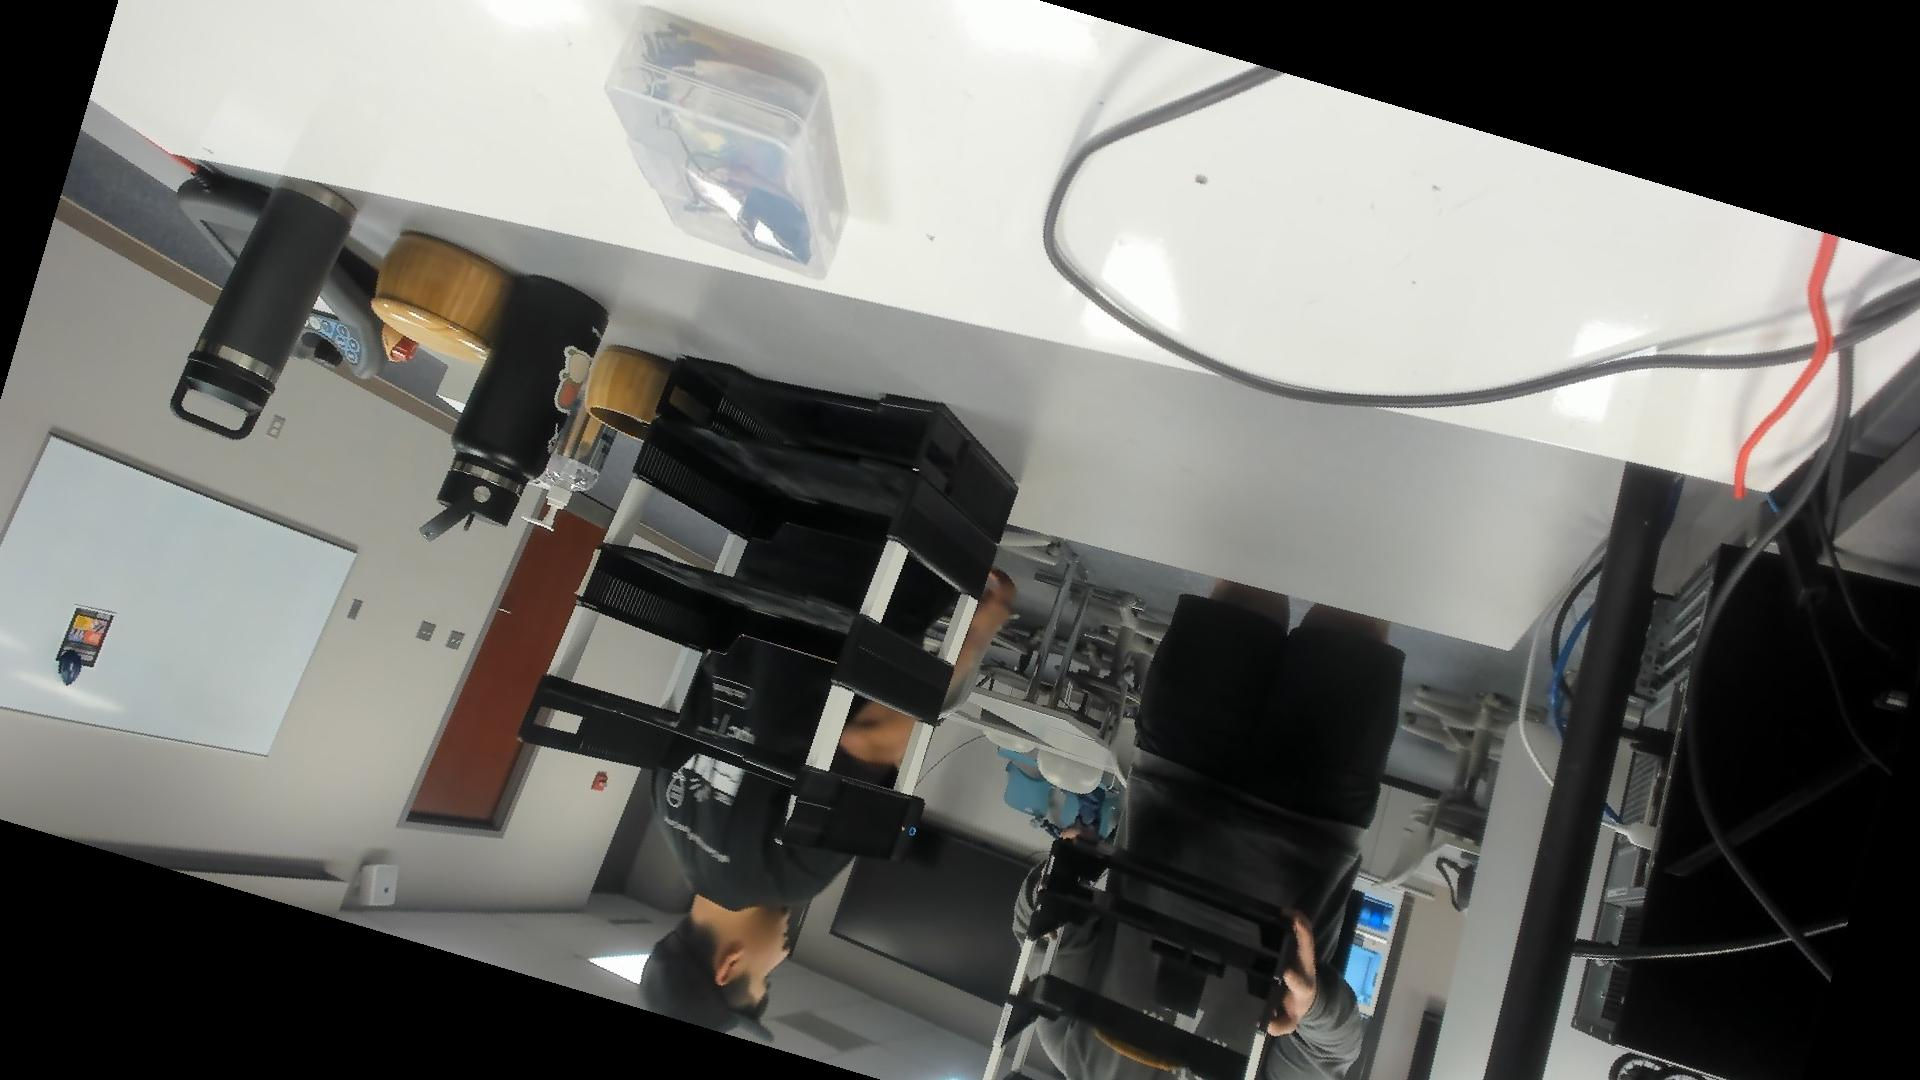black pallet: (1147, 934, 1230, 1023)
